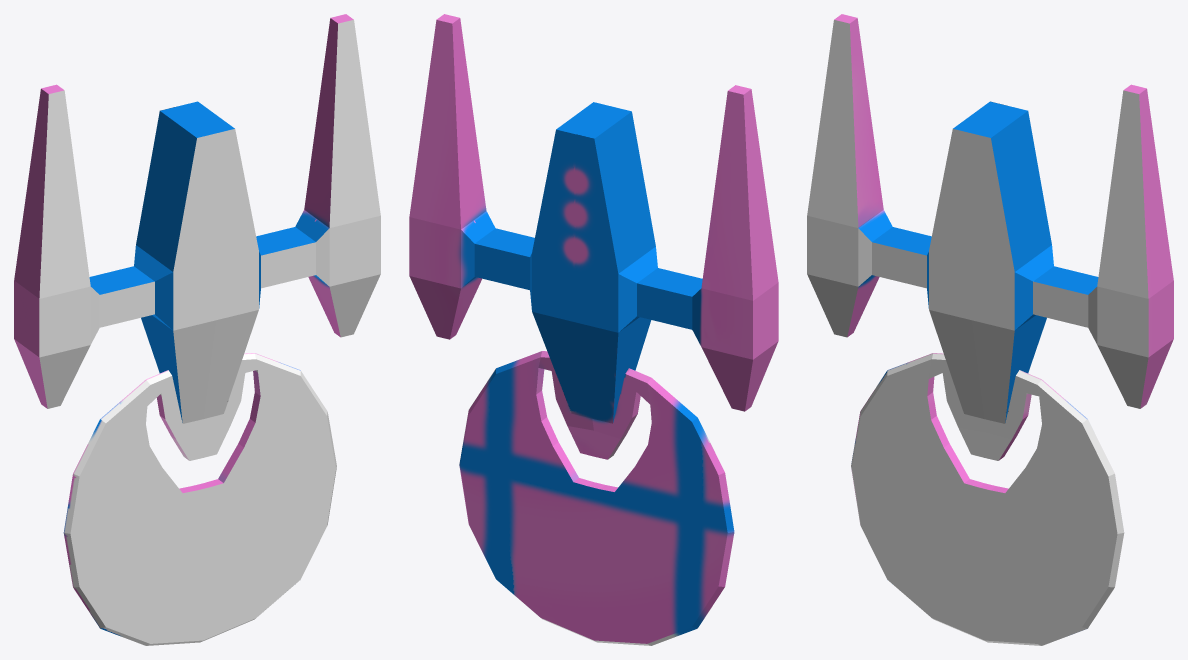
File: enemy4.fbx
3 renders of one model, left to right at view 1: azimuth 30°, elevation 25°; view 2: azimuth 150°, elevation 25°; view 3: azimuth 330°, elevation 25°, orthographic.
Visible parts, largest first — view 1: Enemy4_Mesh; view 2: Enemy4_Mesh; view 3: Enemy4_Mesh.
Part boxes in pixels (left/top/right/bottom): Enemy4_Mesh: left=14, top=14, right=380, bottom=645; Enemy4_Mesh: left=409, top=14, right=778, bottom=645; Enemy4_Mesh: left=807, top=14, right=1173, bottom=645.
Bounding box in the file's own units: 118 × 194 × 22.43.
